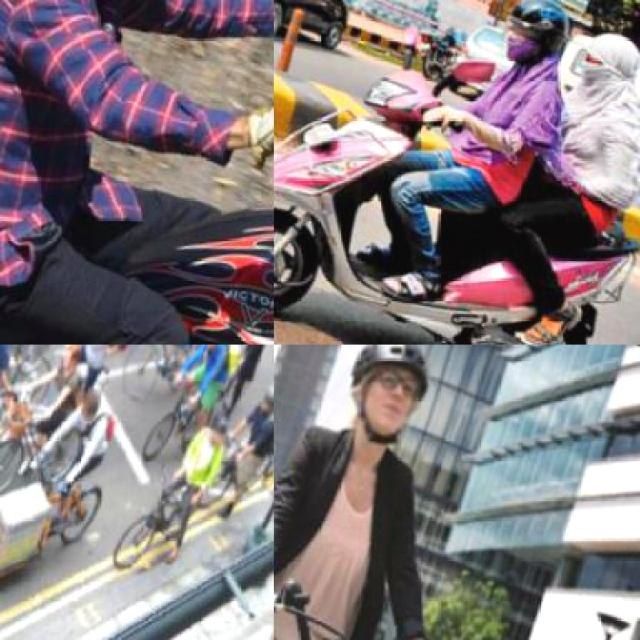With Helmet: (329, 344, 448, 456), (491, 0, 583, 77), (202, 402, 233, 446), (255, 366, 272, 411), (198, 344, 230, 354)
Without Helmet: (566, 6, 639, 111), (77, 381, 103, 419)
